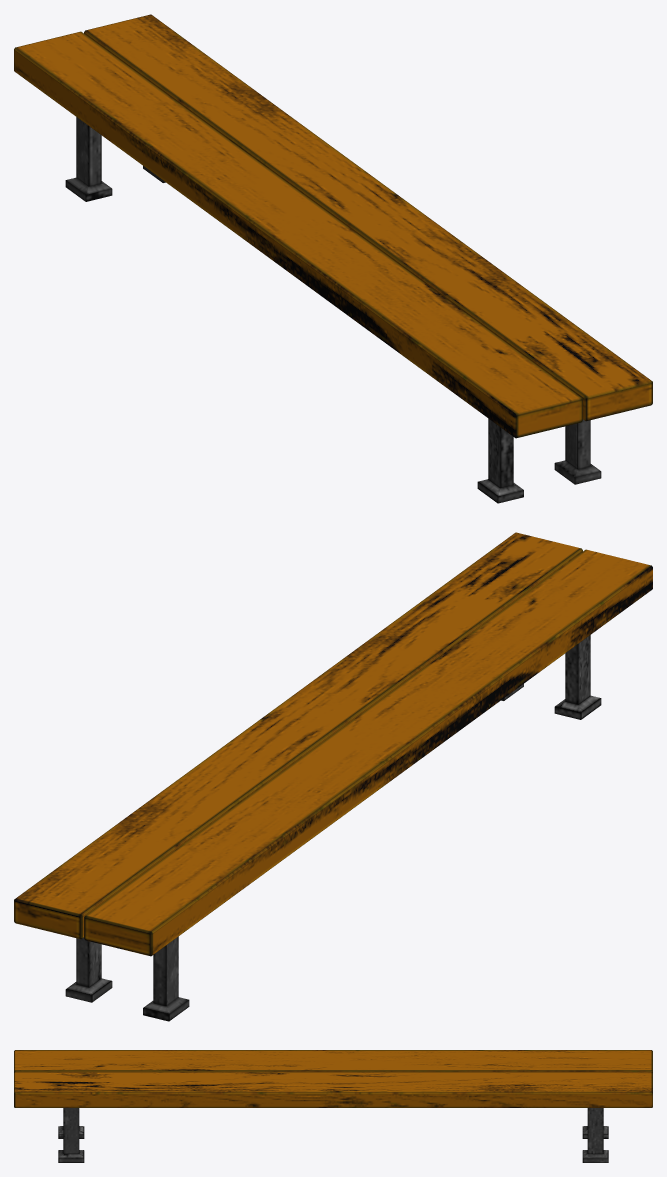
The model's file is Bench.fbx.
3 views of the same model, one above another, from view 1: azimuth 30°, elevation 25°; view 2: azimuth 150°, elevation 25°; view 3: azimuth 270°, elevation 25° (orthographic). The views are drawn at different scales.
Parts seen in each view (by area): view 1: Bench1; view 2: Bench1; view 3: Bench1.
Part boxes in pixels (left/top/right/bottom): Bench1: left=14, top=14, right=652, bottom=503; Bench1: left=14, top=532, right=652, bottom=1021; Bench1: left=14, top=1050, right=652, bottom=1162.
Size of the model in its own units: 152 by 124 by 951.
